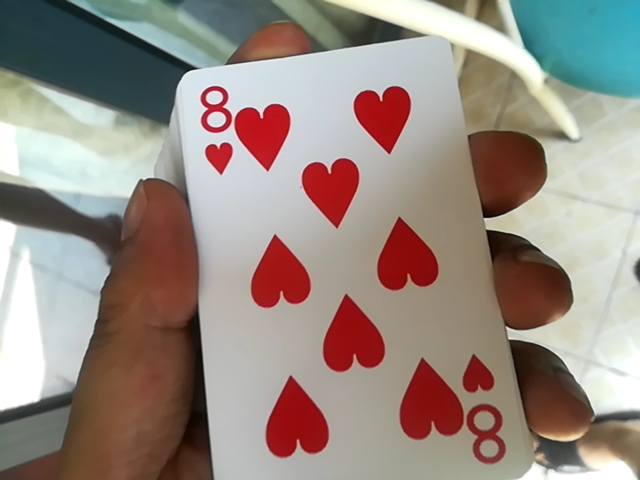hx 8: (185, 34, 585, 480)
